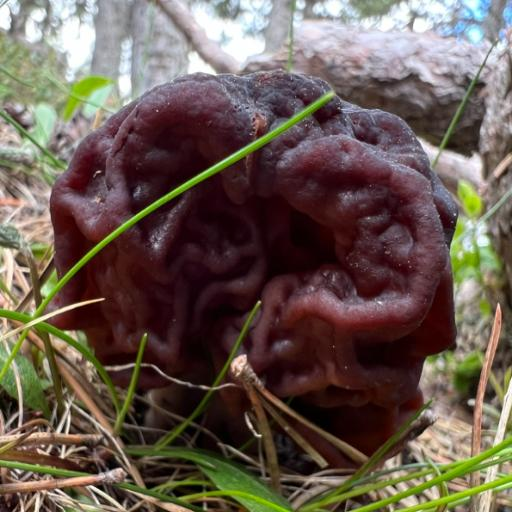False Morel: (40, 53, 476, 448)
